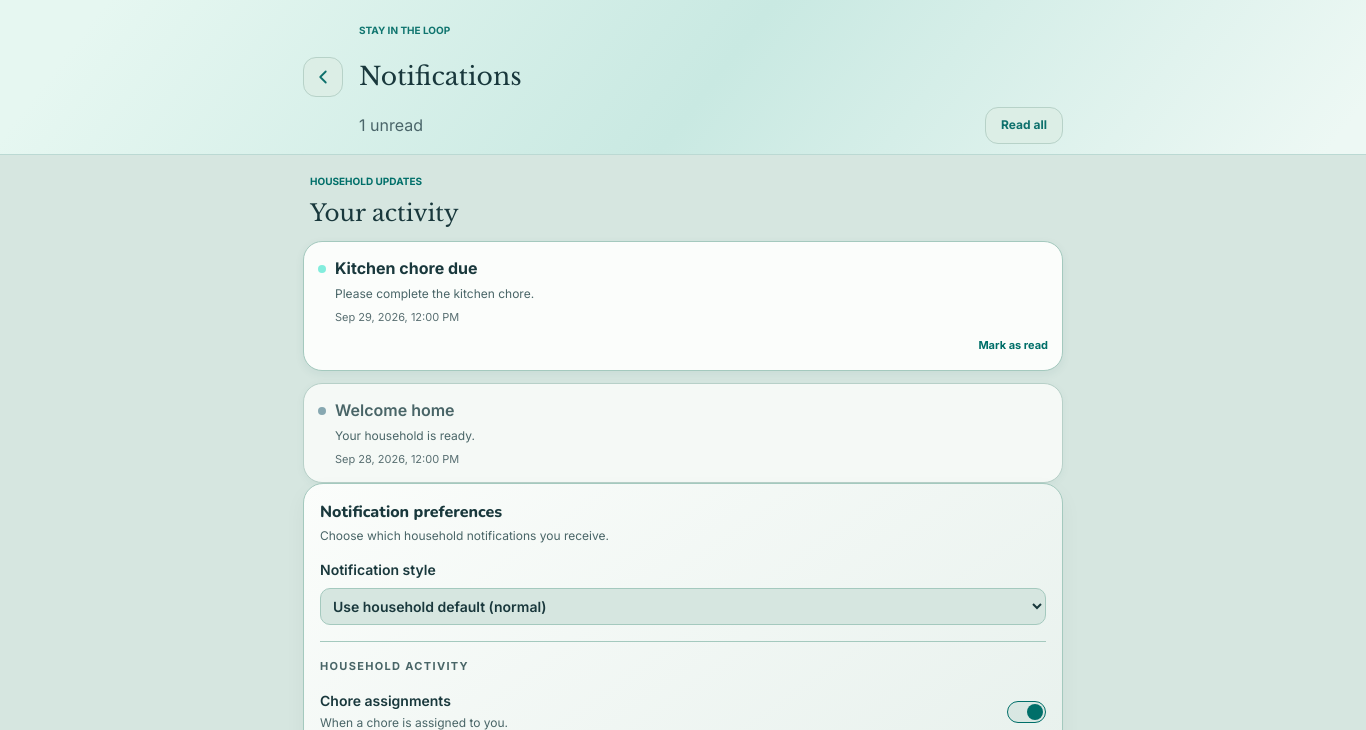
Test: notifications screen › updates read state immediately and rolls it back when marking read fails
Later steps or results of the test are not shown.
Click the button with aria-label "Mark Kitchen chore due as read" at [1013, 345], box [978,337,1048,354]
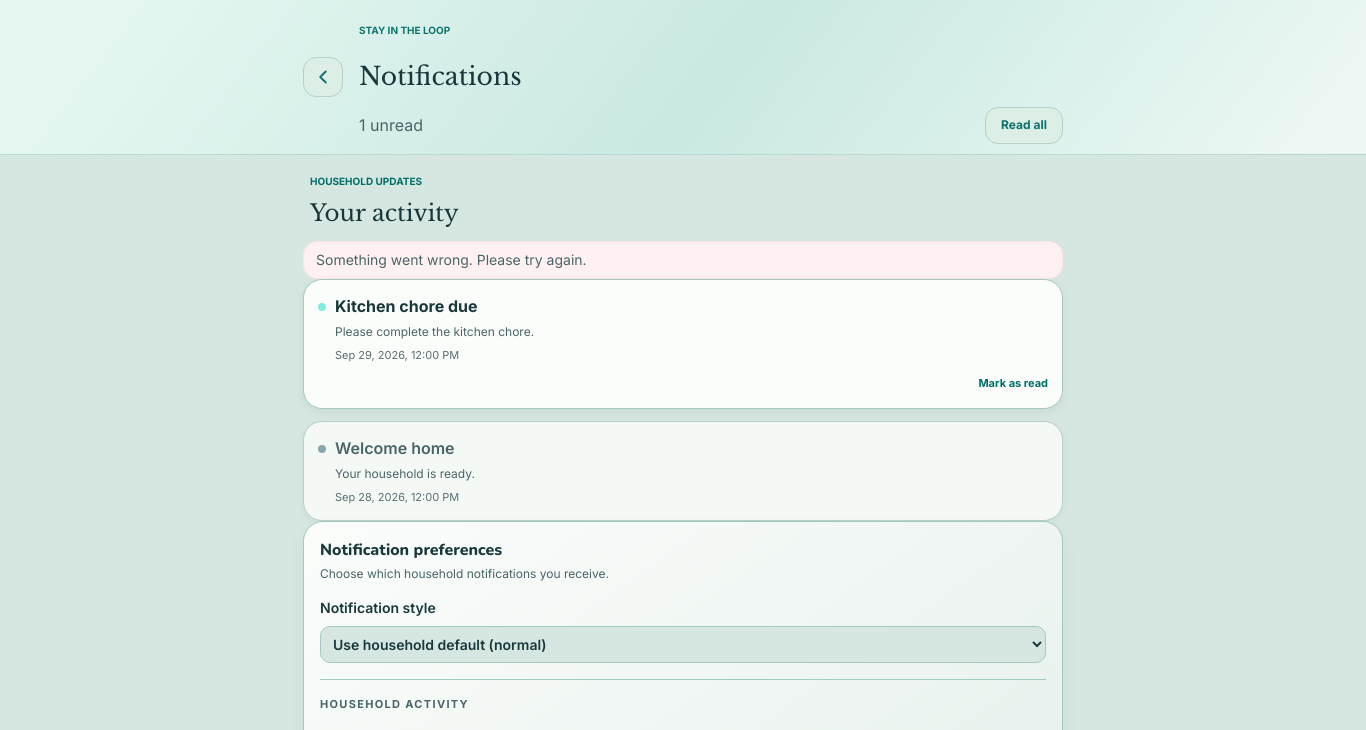
Expected: the text "1 unread" is shown, [359,113,423,137]
Expected: the message shows "Something went wrong.", [316,251,587,268]
